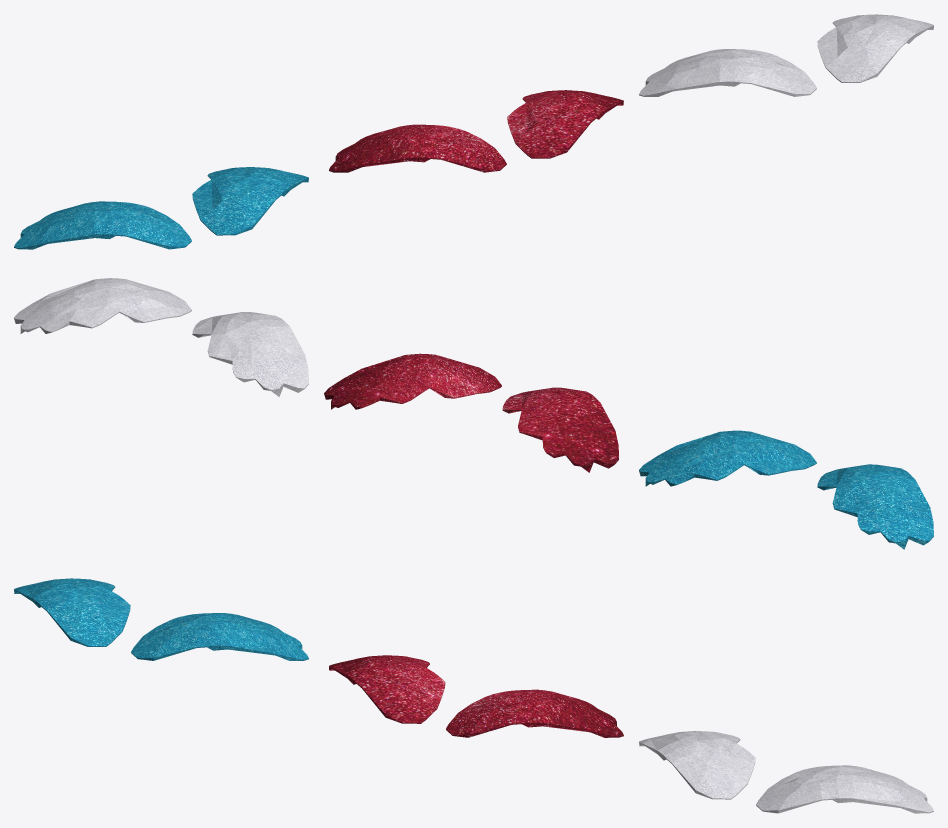
File: Wings.fbx
3 renders of one model, top to bottom at view 1: azimuth 30°, elevation 25°; view 2: azimuth 150°, elevation 25°; view 3: azimuth 330°, elevation 25°, orthographic.
Parts seen in each view (by area): view 1: RightWing (×2), LeftWing (×2), wings:RightWing, wings:LeftWing; view 2: RightWing (×2), LeftWing (×2), wings:RightWing, wings:LeftWing; view 3: LeftWing (×2), RightWing (×2), wings:LeftWing, wings:RightWing.
Part boxes in pixels (x1,y1,x2,y2): RightWing (×2): (329, 49, 816, 172); LeftWing (×2): (507, 14, 933, 158); wings:RightWing: (14, 201, 191, 249); wings:LeftWing: (192, 167, 308, 235); RightWing (×2): (192, 312, 618, 472); LeftWing (×2): (14, 278, 501, 409); wings:RightWing: (817, 464, 933, 549); wings:LeftWing: (639, 430, 816, 486); LeftWing (×2): (446, 689, 933, 813); RightWing (×2): (329, 655, 755, 799); wings:LeftWing: (131, 613, 308, 660); wings:RightWing: (14, 578, 130, 646).
Bounding box in the file's own units: 149 × 6.05 × 18.9.
3 materials, 3 textured.
